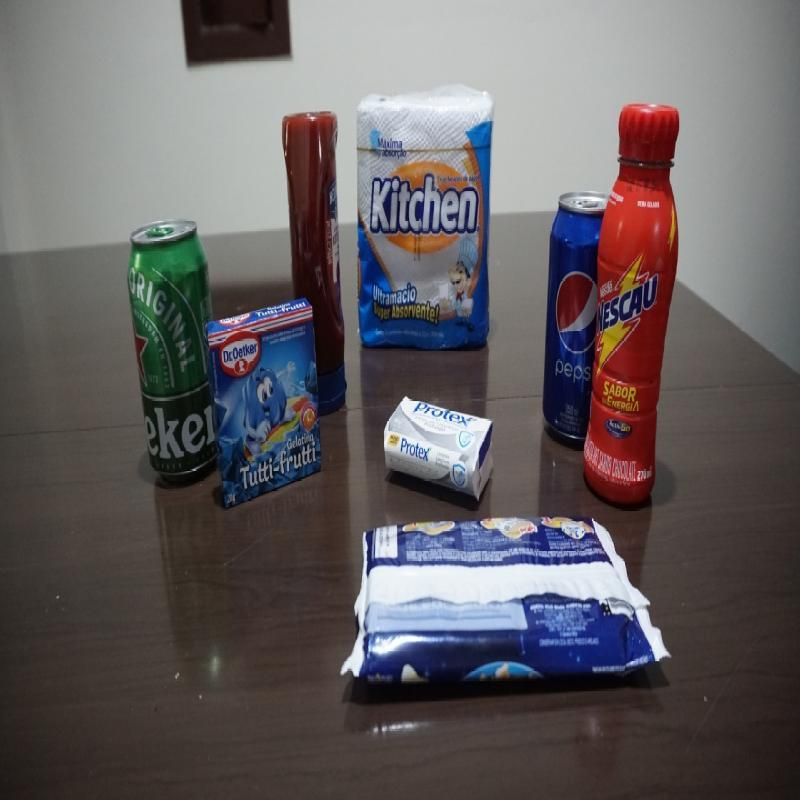Beer can: (127, 218, 218, 487)
Chocolate Milk: (583, 100, 683, 508)
Gelatine: (206, 298, 323, 510)
Ketchup: (281, 109, 347, 412)
Napkin: (356, 85, 493, 352)
Popcorn: (339, 512, 673, 686)
Soap: (383, 395, 495, 501)
Soda can: (541, 192, 606, 436)
